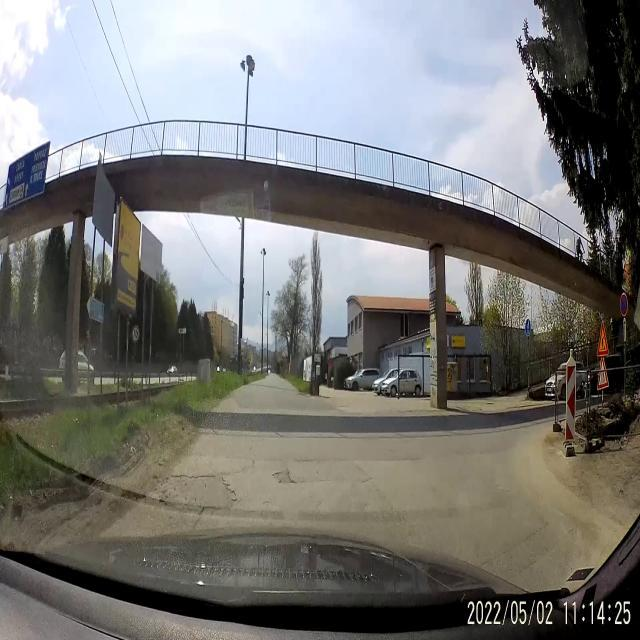Pothole: (157, 470, 240, 518), (270, 465, 304, 496)
